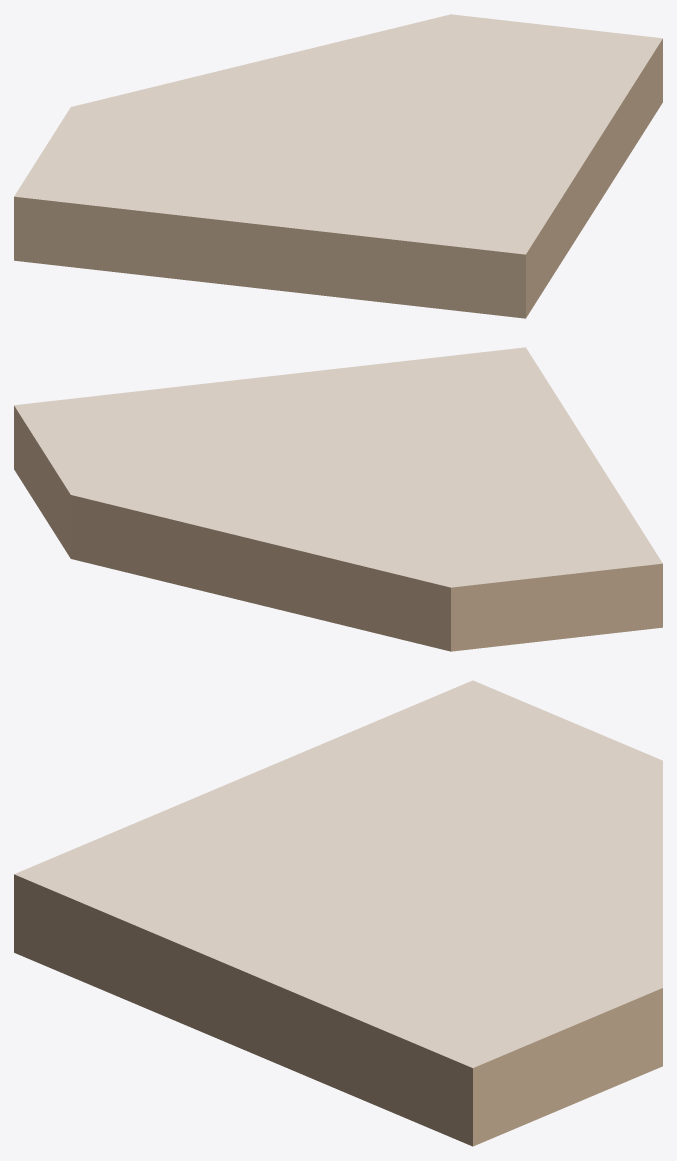
Rendered from Tower_Landing.fbx.
3 renders of one model, top to bottom at view 1: azimuth 30°, elevation 25°; view 2: azimuth 150°, elevation 25°; view 3: azimuth 270°, elevation 25°, orthographic. The views are drawn at different scales.
Visible parts, largest first — view 1: object1, Sandstone_Trim; view 2: object1, Sandstone_Trim; view 3: object1, Sandstone_Trim.
Part boxes in pixels (x1=…): object1: x1=14, y1=14, x2=662, y2=254; Sandstone_Trim: x1=14, y1=39, x2=662, y2=318; object1: x1=14, y1=347, x2=662, y2=587; Sandstone_Trim: x1=14, y1=406, x2=662, y2=651; object1: x1=14, y1=680, x2=662, y2=1067; Sandstone_Trim: x1=14, y1=874, x2=662, y2=1146.
Size of the model in its own units: 2.12 by 0.2 by 1.5.
